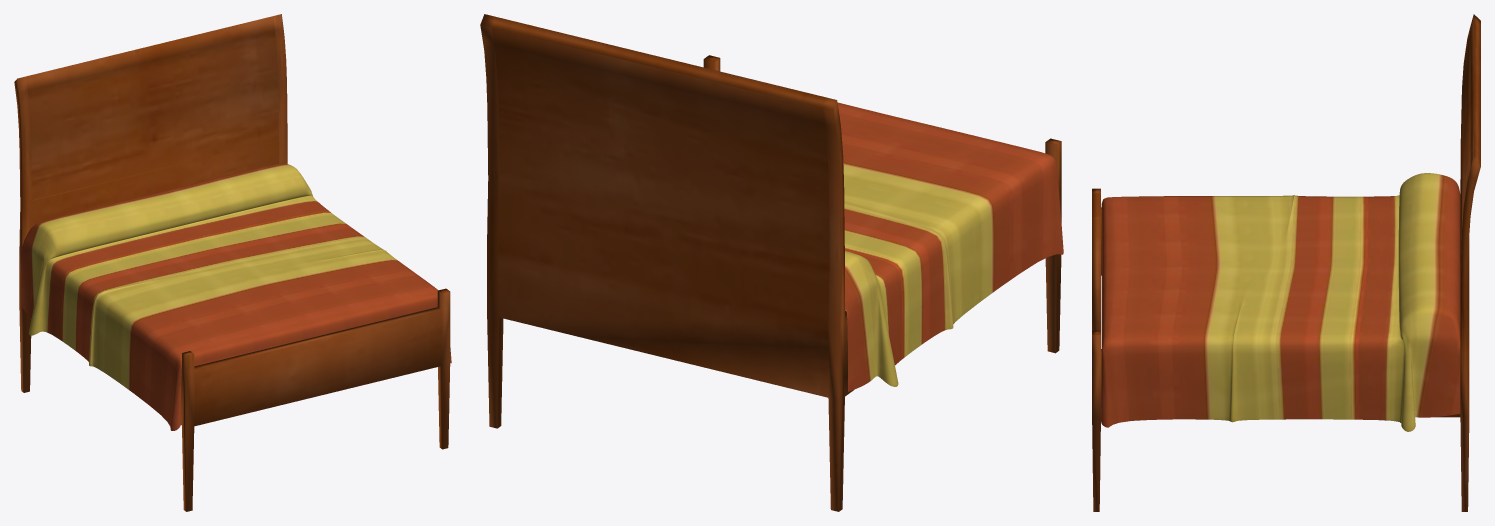
Rendered from sh-scopia-bed1.glb.
3 views of the same model, side by side, from view 1: azimuth 30°, elevation 25°; view 2: azimuth 150°, elevation 25°; view 3: azimuth 270°, elevation 25° (orthographic). The views are drawn at different scales.
Visible parts, largest first — view 1: bed_Plane, Colcha_Plane.002; view 2: bed_Plane, Colcha_Plane.002; view 3: Colcha_Plane.002, bed_Plane.
Boxes of the visible parts, bbox=[...] form: bed_Plane: bbox=[14, 14, 450, 511]; Colcha_Plane.002: bbox=[21, 163, 451, 430]; bed_Plane: bbox=[480, 14, 1061, 511]; Colcha_Plane.002: bbox=[837, 102, 1063, 391]; Colcha_Plane.002: bbox=[1101, 173, 1460, 431]; bed_Plane: bbox=[1092, 14, 1480, 511].
Size of the model in its own units: 1 by 1 by 1.
2 materials, 2 textured.
